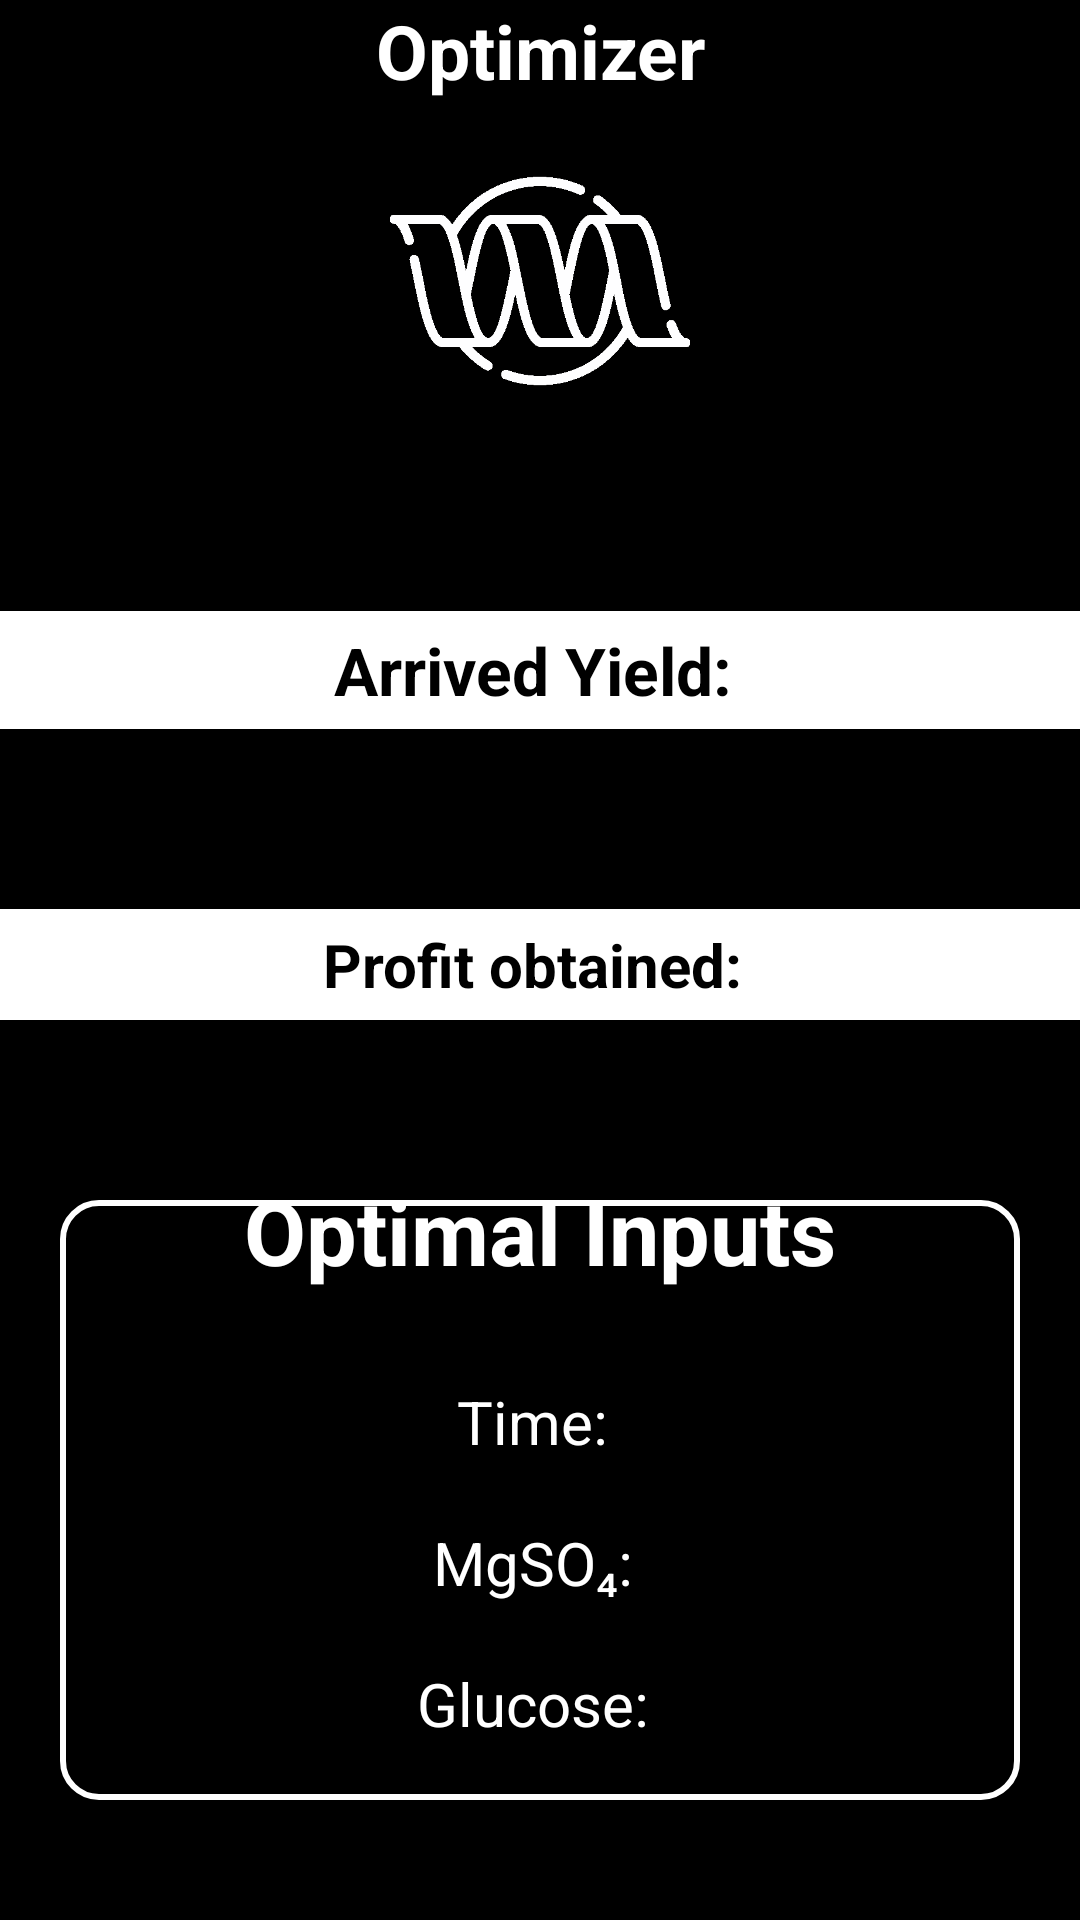

Locate icon controls on the screen. Image size 1080x1920, boxes as bbox=[x1, y1, x2, y2].
horizontalprotein: bbox=[390, 176, 690, 386]
